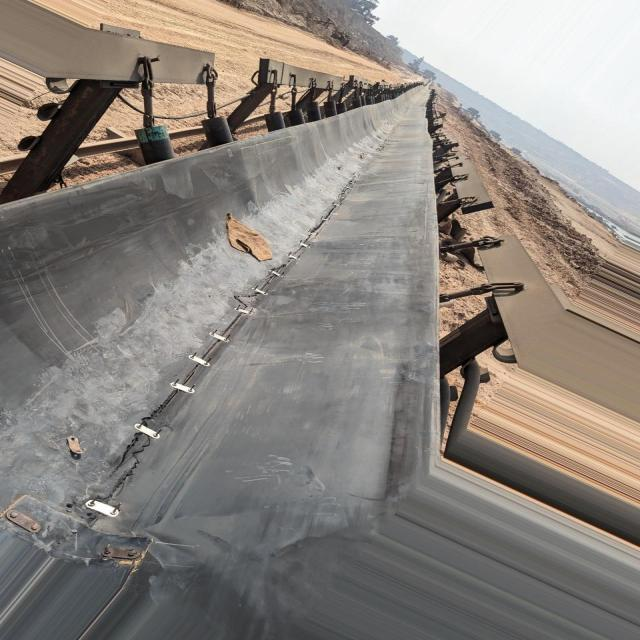Other Objects: (226, 215, 272, 263)
Roller: (266, 95, 375, 133), (137, 126, 177, 167), (202, 116, 232, 151)
patch work: (72, 202, 345, 520), (0, 494, 151, 566)
